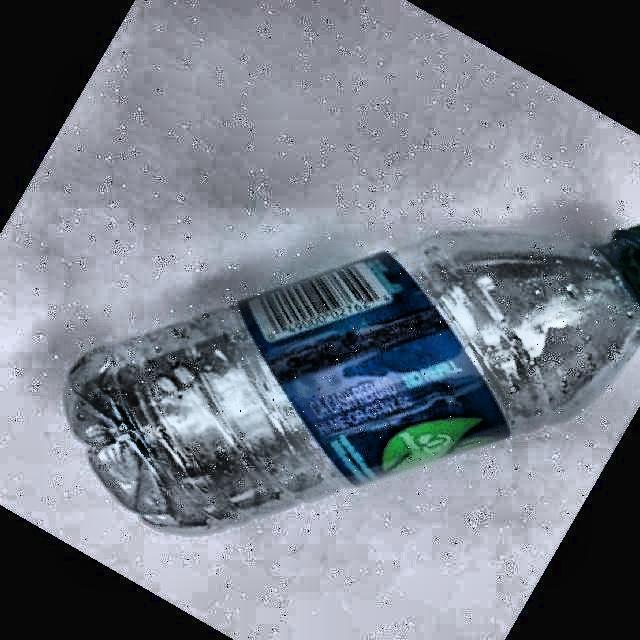plastic: (66, 228, 640, 532)
